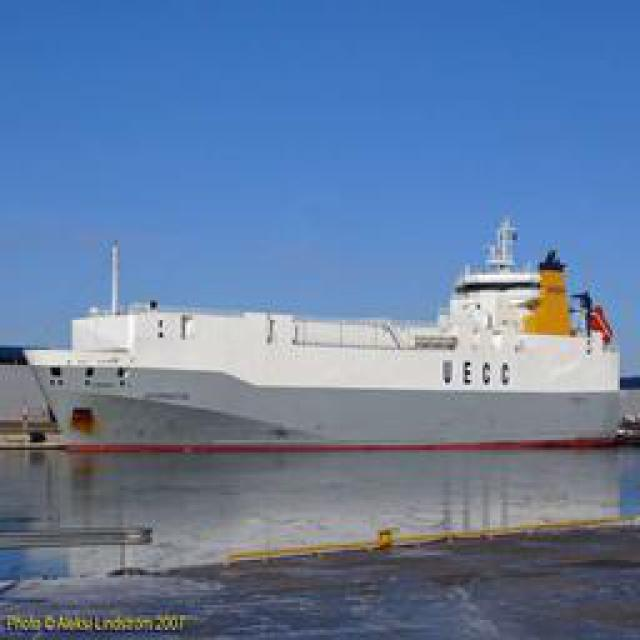Ship: (21, 214, 629, 487)
